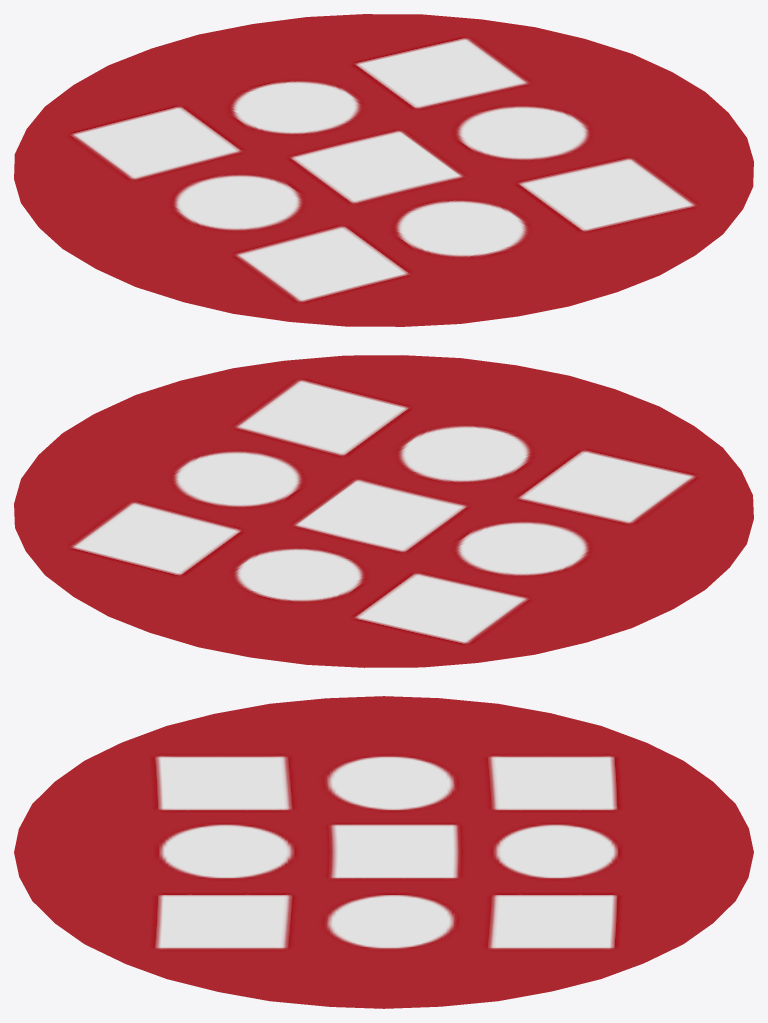
Rendered from Nav_Practise.fbx.
The picture shows the model from 3 angles, top to bottom: view 1: azimuth 30°, elevation 25°; view 2: azimuth 150°, elevation 25°; view 3: azimuth 270°, elevation 25°; orthographic projection.
Parts seen in each view (by area): view 1: Nav_Practise; view 2: Nav_Practise; view 3: Nav_Practise.
Boxes of the visible parts, left/top/right/bottom form: Nav_Practise: left=14, top=14, right=753, bottom=326; Nav_Practise: left=14, top=355, right=753, bottom=667; Nav_Practise: left=14, top=696, right=753, bottom=1008.
Size of the model in its own units: 60.42 by 0 by 60.42.
Materials: 1 (1 with a texture image).
